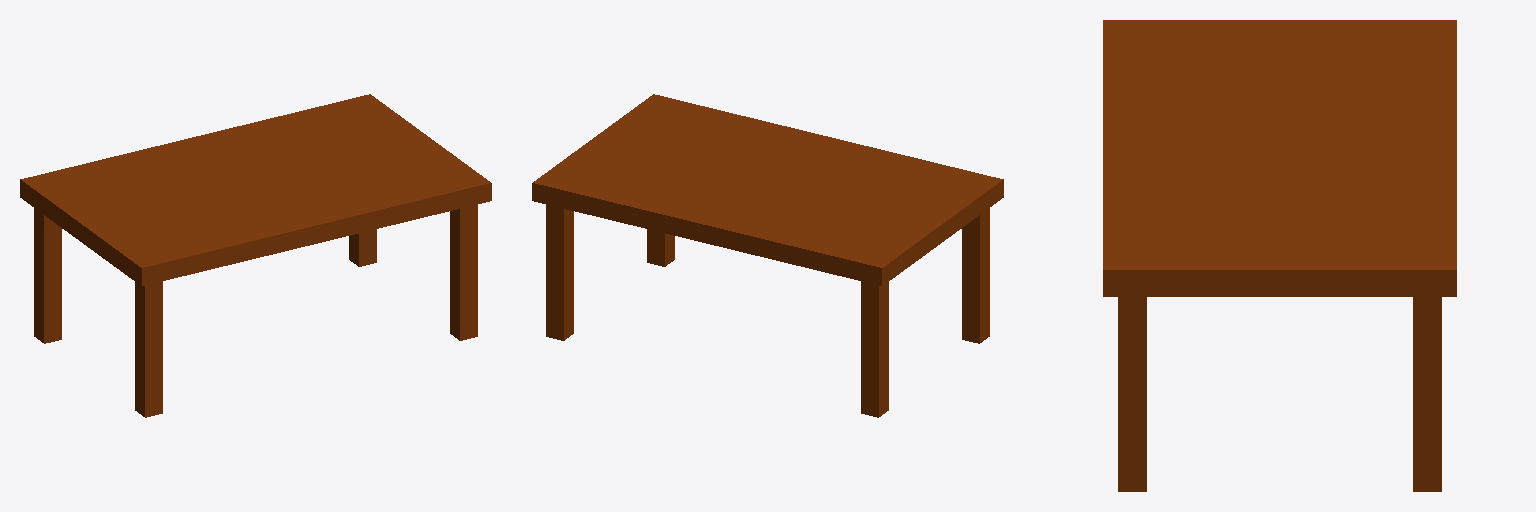
URDF robot description (simple_table):
<?xml version="1.0"?>
<robot name="simple_table">

  <!-- Material for visualization -->
  <material name="brown">
    <color rgba="0.545 0.271 0.075 1.0"/>
  </material>

  <!-- Table Top -->
  <link name="table_top">
    <visual>
      <geometry>
        <box size="1.0 0.6 0.05"/> <!-- Length, Width, Height -->
      </geometry>
      <material name="brown"/>
      <origin xyz="0 0 0.425"/>
    </visual>
    <collision>
      <geometry>
        <box size="1.0 0.6 0.05"/>
      </geometry>
      <origin xyz="0 0 0.425"/>
      <surface>
          <friction>
              <ode>
                  <mu>1.0</mu>
                  <mu2>1.0</mu2>
              </ode>
          </friction>
      </surface>
    </collision>
    <inertial>
        <mass value="5.0"/>
        <inertia ixx="0.01" ixy="0.0" ixz="0.0" iyy="0.01" iyz="0.0" izz="0.01"/>
    </inertial>
  </link>

  <!-- One leg (reuse 4 times with different positions) -->
  <!-- Leg 1 -->
  <link name="leg_1">
    <visual>
      <geometry>
        <box size="0.05 0.05 0.4"/>
      </geometry>
      <material name="brown"/>
      <origin xyz="0 0 0.2"/>
    </visual>
    <collision>
      <geometry>
        <box size="0.05 0.05 0.4"/>
      </geometry>
      <origin xyz="0 0 0.2"/>
      <surface>
        <friction>
            <ode>
                <mu>1.0</mu>
                <mu2>1.0</mu2>
            </ode>
        </friction>
      </surface>
    </collision>
    <inertial>
        <mass value="5.0"/>
        <inertia ixx="0.01" ixy="0.0" ixz="0.0" iyy="0.01" iyz="0.0" izz="0.01"/>
    </inertial>
  </link>

  <joint name="leg_1_joint" type="fixed">
    <parent link="table_top"/>
    <child link="leg_1"/>
    <origin xyz="0.45 0.25 0.025"/>
  </joint>

  <!-- Leg 2 -->
  <link name="leg_2">
    <visual>
      <geometry>
        <box size="0.05 0.05 0.4"/>
      </geometry>
      <material name="brown"/>
      <origin xyz="0 0 0.2"/>
    </visual>
    <collision>
      <geometry>
        <box size="0.05 0.05 0.4"/>
      </geometry>
      <origin xyz="0 0 0.2"/>
      <surface>
          <friction>
              <ode>
                  <mu>1.0</mu>
                  <mu2>1.0</mu2>
              </ode>
          </friction>
      </surface>
    </collision>
    <inertial>
        <mass value="5.0"/>
        <inertia ixx="0.01" ixy="0.0" ixz="0.0" iyy="0.01" iyz="0.0" izz="0.01"/>
    </inertial>
  </link>

  <joint name="leg_2_joint" type="fixed">
    <parent link="table_top"/>
    <child link="leg_2"/>
    <origin xyz="-0.45 0.25 0.025"/>
  </joint>

  <!-- Leg 3 -->
  <link name="leg_3">
    <visual>
      <geometry>
        <box size="0.05 0.05 0.4"/>
      </geometry>
      <material name="brown"/>
      <origin xyz="0 0 0.2"/>
    </visual>
    <collision>
      <geometry>
        <box size="0.05 0.05 0.4"/>
      </geometry>
      <origin xyz="0 0 0.2"/>
      <surface>
          <friction>
              <ode>
                  <mu>1.0</mu>
                  <mu2>1.0</mu2>
              </ode>
          </friction>
      </surface>
    </collision>
    <inertial>
        <mass value="5.0"/>
        <inertia ixx="0.01" ixy="0.0" ixz="0.0" iyy="0.01" iyz="0.0" izz="0.01"/>
    </inertial>
  </link>

  <joint name="leg_3_joint" type="fixed">
    <parent link="table_top"/>
    <child link="leg_3"/>
    <origin xyz="-0.45 -0.25 0.025"/>
  </joint>

  <!-- Leg 4 -->
  <link name="leg_4">
    <visual>
      <geometry>
        <box size="0.05 0.05 0.4"/>
      </geometry>
      <material name="brown"/>
      <origin xyz="0 0 0.2"/>
    </visual>
    <collision>
      <geometry>
        <box size="0.05 0.05 0.4"/>
      </geometry>
      <origin xyz="0 0 0.2"/>
      <surface>
          <friction>
              <ode>
                  <mu>1.0</mu>
                  <mu2>1.0</mu2>
              </ode>
          </friction>
      </surface>
    </collision>
    <inertial>
        <mass value="5.0"/>
        <inertia ixx="0.01" ixy="0.0" ixz="0.0" iyy="0.01" iyz="0.0" izz="0.01"/>
    </inertial>
  </link>

  <joint name="leg_4_joint" type="prismatic">
    <parent link="table_top"/>
    <child link="leg_4"/>
    <origin xyz="0.45 -0.25 0.025"/>
  </joint>

</robot>

--- Render facts (derived) ---
The picture shows the robot from 3 angles, left to right: view 1: azimuth 30°, elevation 25°; view 2: azimuth 150°, elevation 25°; view 3: azimuth 270°, elevation 25°; orthographic projection.
Robot: simple_table — 5 links, 4 joints (1 prismatic, 3 fixed); root link table_top; default pose: all joints at 0.
Visible links, largest first — view 1: table_top, leg_3, leg_4, leg_2, leg_1; view 2: table_top, leg_2, leg_1, leg_3, leg_4; view 3: table_top, leg_1, leg_4.
Boxes of the visible links, left/top/right/bottom form: table_top: left=20, top=94, right=491, bottom=285; leg_3: left=135, top=281, right=162, bottom=417; leg_4: left=450, top=205, right=477, bottom=340; leg_2: left=34, top=208, right=61, bottom=343; leg_1: left=349, top=229, right=376, bottom=266; table_top: left=532, top=94, right=1003, bottom=285; leg_2: left=861, top=281, right=888, bottom=417; leg_1: left=546, top=205, right=573, bottom=340; leg_3: left=962, top=208, right=989, bottom=343; leg_4: left=647, top=229, right=674, bottom=266; table_top: left=1103, top=20, right=1456, bottom=296; leg_1: left=1413, top=297, right=1441, bottom=491; leg_4: left=1118, top=297, right=1146, bottom=491.
Size in the robot's own frame: 1 by 0.6 by 0.425 metres.
Geometry: primitives only (box / cylinder / sphere), no mesh files.